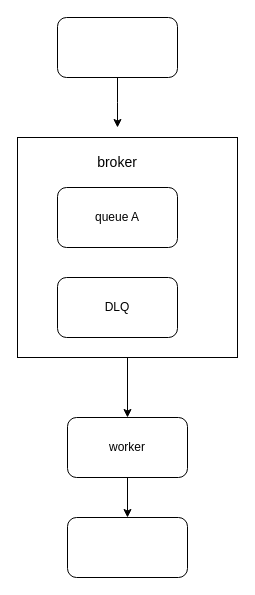
This 255x595 diagram has some shape labels left out. The centre of each missing label's shape, as x and y in pixels:
"audit DB" belongs at (x=127, y=547).
"producer" belongs at (x=117, y=47).
